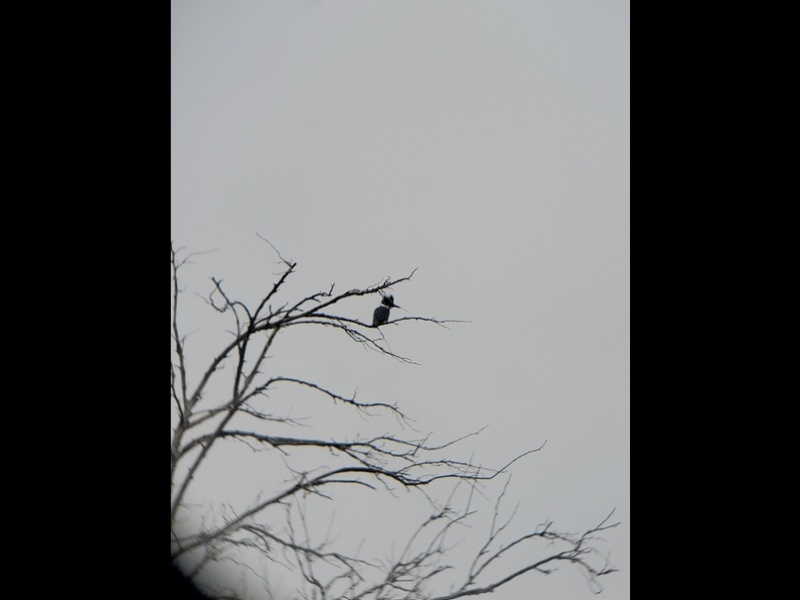kingfisher: (363, 288, 408, 329)
